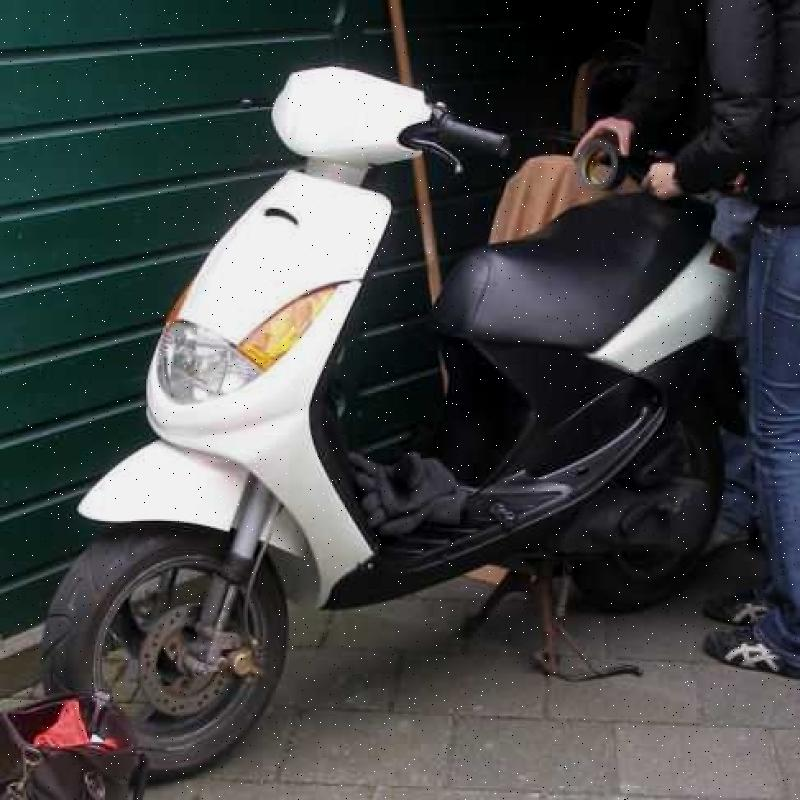bike: (56, 29, 800, 760)
